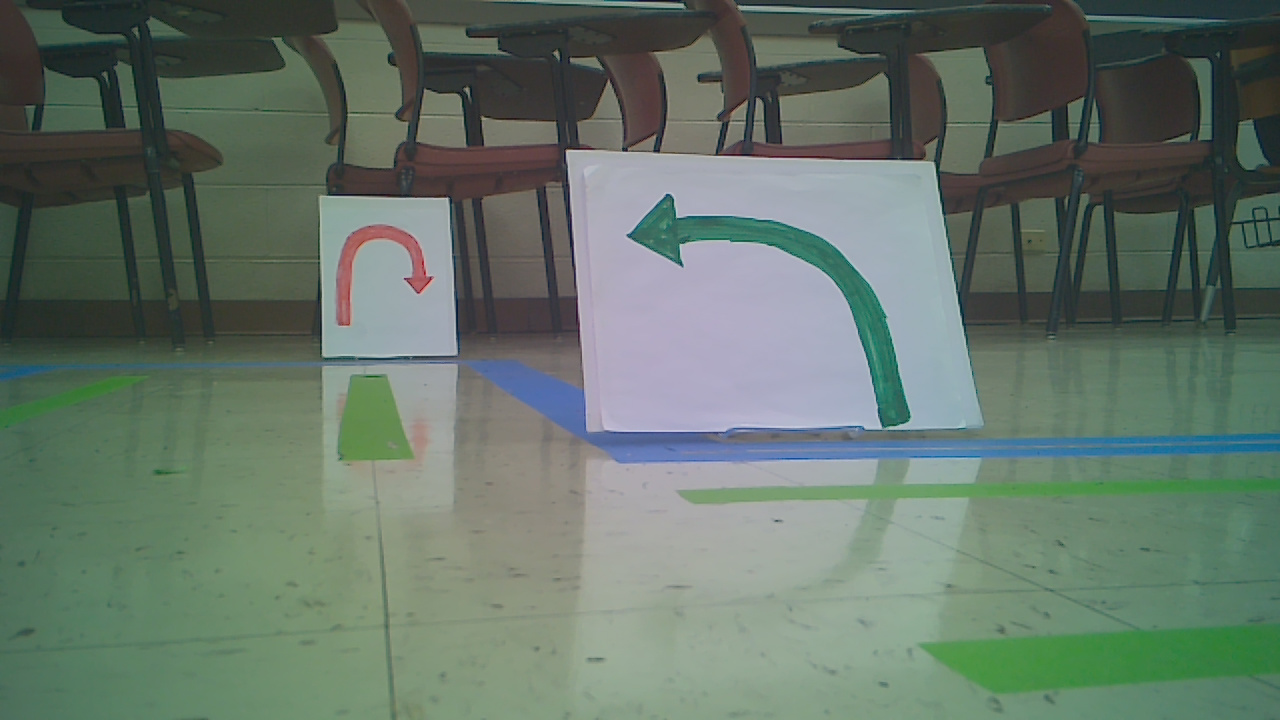greenline: (340, 373, 414, 460)
left: (613, 181, 914, 428)
uturn: (332, 222, 441, 326)
